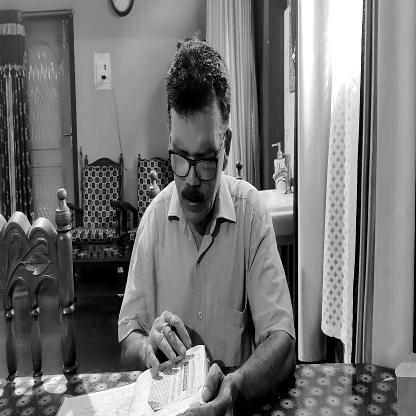Normal: (166, 40, 228, 222)
